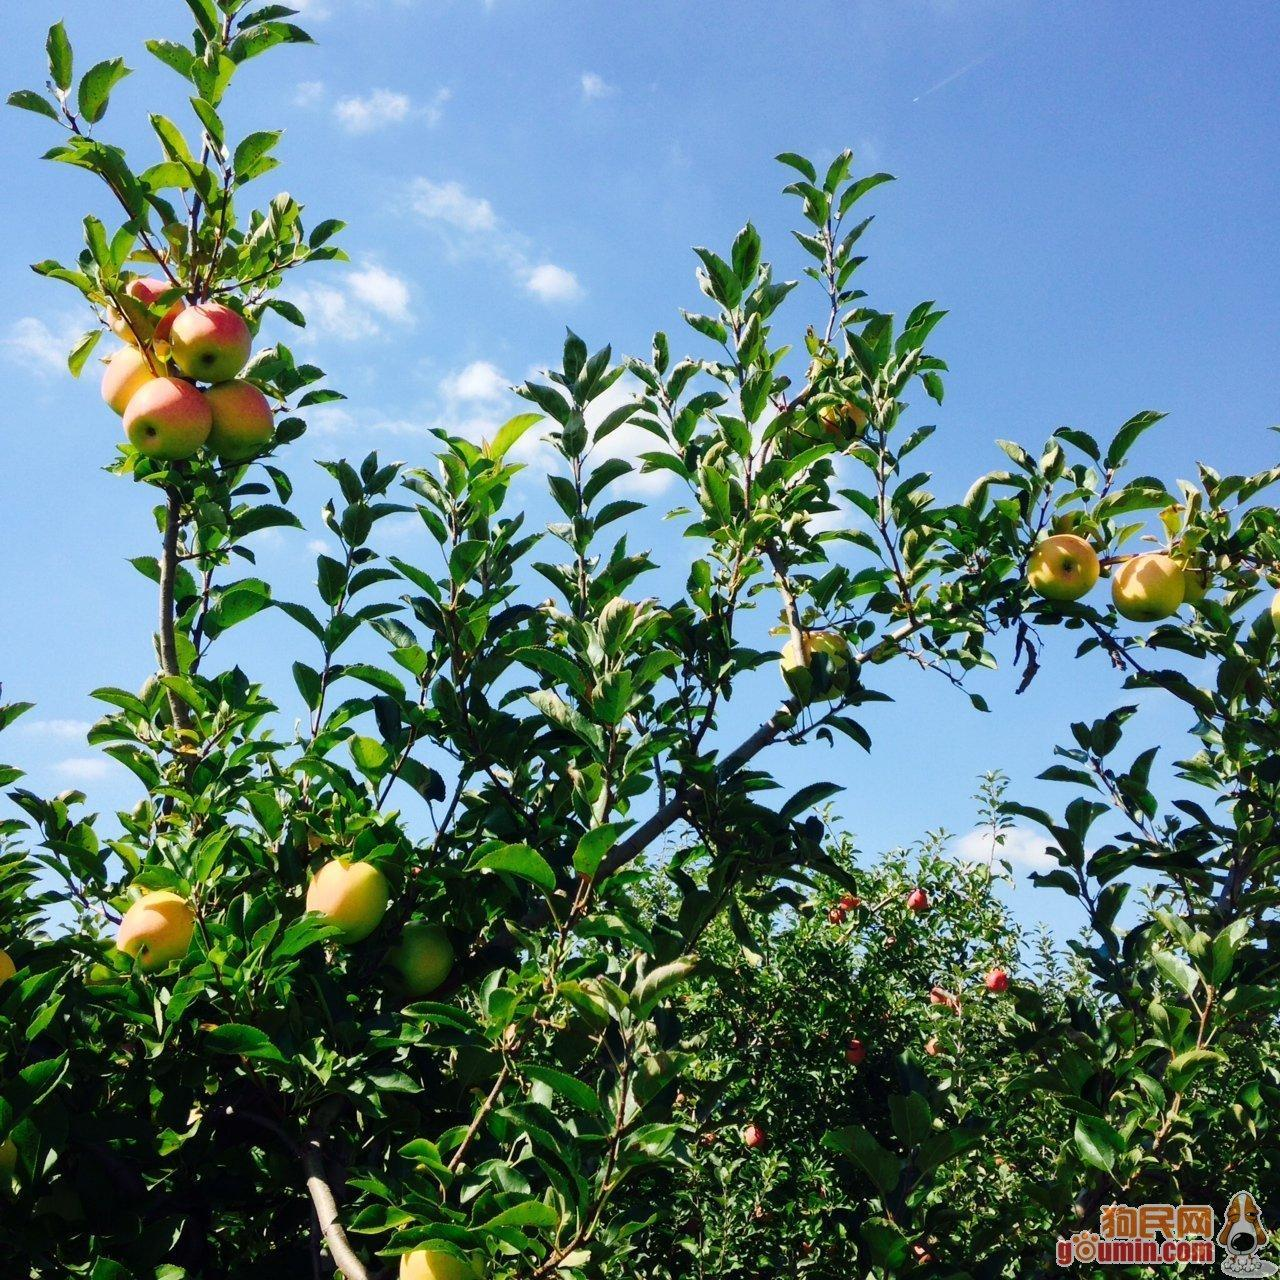apple: (120, 376, 212, 459), (163, 299, 252, 383), (302, 856, 388, 940), (114, 891, 195, 969), (1023, 533, 1099, 605), (203, 379, 272, 455), (1109, 553, 1186, 621), (393, 919, 452, 1000), (97, 346, 159, 414)
